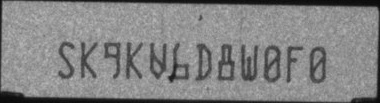0: (308, 45, 328, 83), (263, 44, 282, 82)
6: (172, 42, 190, 79)
8: (217, 43, 235, 80)
9: (105, 41, 121, 78)
D: (194, 44, 213, 80)
F: (287, 45, 304, 82)
K: (80, 41, 99, 79), (126, 41, 144, 79)
S: (58, 41, 75, 78)
V: (149, 41, 168, 79)
W: (240, 43, 258, 81)
